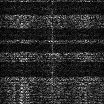wifi: (1, 77, 104, 104), (1, 15, 104, 28), (1, 52, 104, 61), (1, 39, 104, 43)
